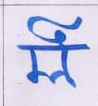au_matra: (43, 11, 88, 86)
